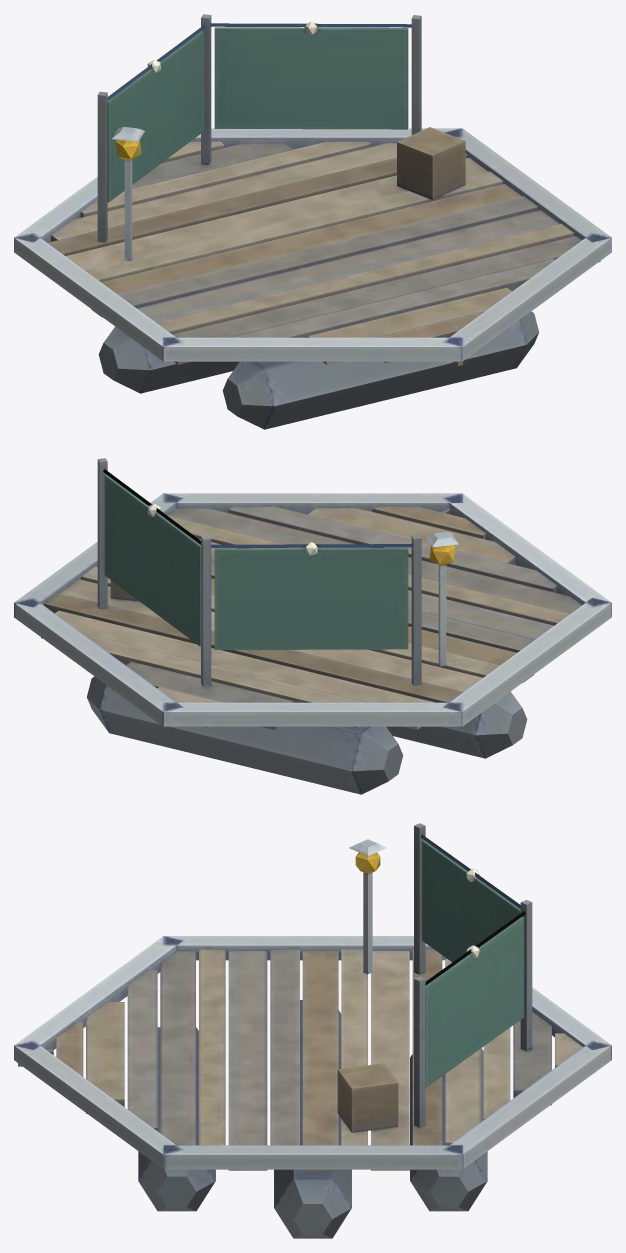
Rendered from raft-b-age20-lite.glb.
3 renders of one model, top to bottom at view 1: azimuth 30°, elevation 25°; view 2: azimuth 150°, elevation 25°; view 3: azimuth 270°, elevation 25°, orthographic.
Parts seen in each view (by area): view 1: raft-b-age20-lite; view 2: raft-b-age20-lite; view 3: raft-b-age20-lite.
Part boxes in pixels (left/top/right/bottom): raft-b-age20-lite: left=14, top=14, right=611, bottom=429; raft-b-age20-lite: left=14, top=458, right=611, bottom=794; raft-b-age20-lite: left=14, top=823, right=611, bottom=1238.
Bounding box in the file's own units: 1.6 × 0.8439 × 1.85.
1 material, 1 textured.
